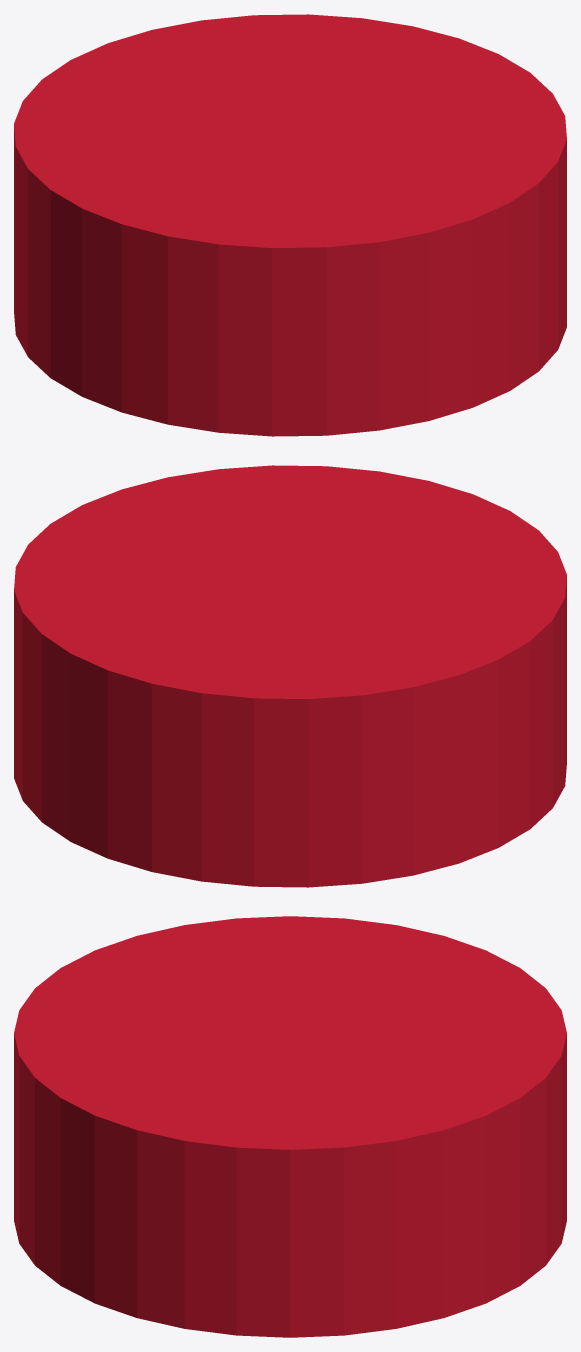
Rendered from red_bowl_approx_8_8_6.dae.
3 renders of one model, top to bottom at view 1: azimuth 30°, elevation 25°; view 2: azimuth 150°, elevation 25°; view 3: azimuth 270°, elevation 25°, orthographic.
Parts seen in each view (by area): view 1: Cylinder; view 2: Cylinder; view 3: Cylinder.
Boxes of the visible parts, <box> form: Cylinder: <box>14,14,566,436</box>; Cylinder: <box>14,465,566,887</box>; Cylinder: <box>14,916,566,1337</box>.
Bounding box in the file's own units: 0.16 × 0.16 × 0.06.
